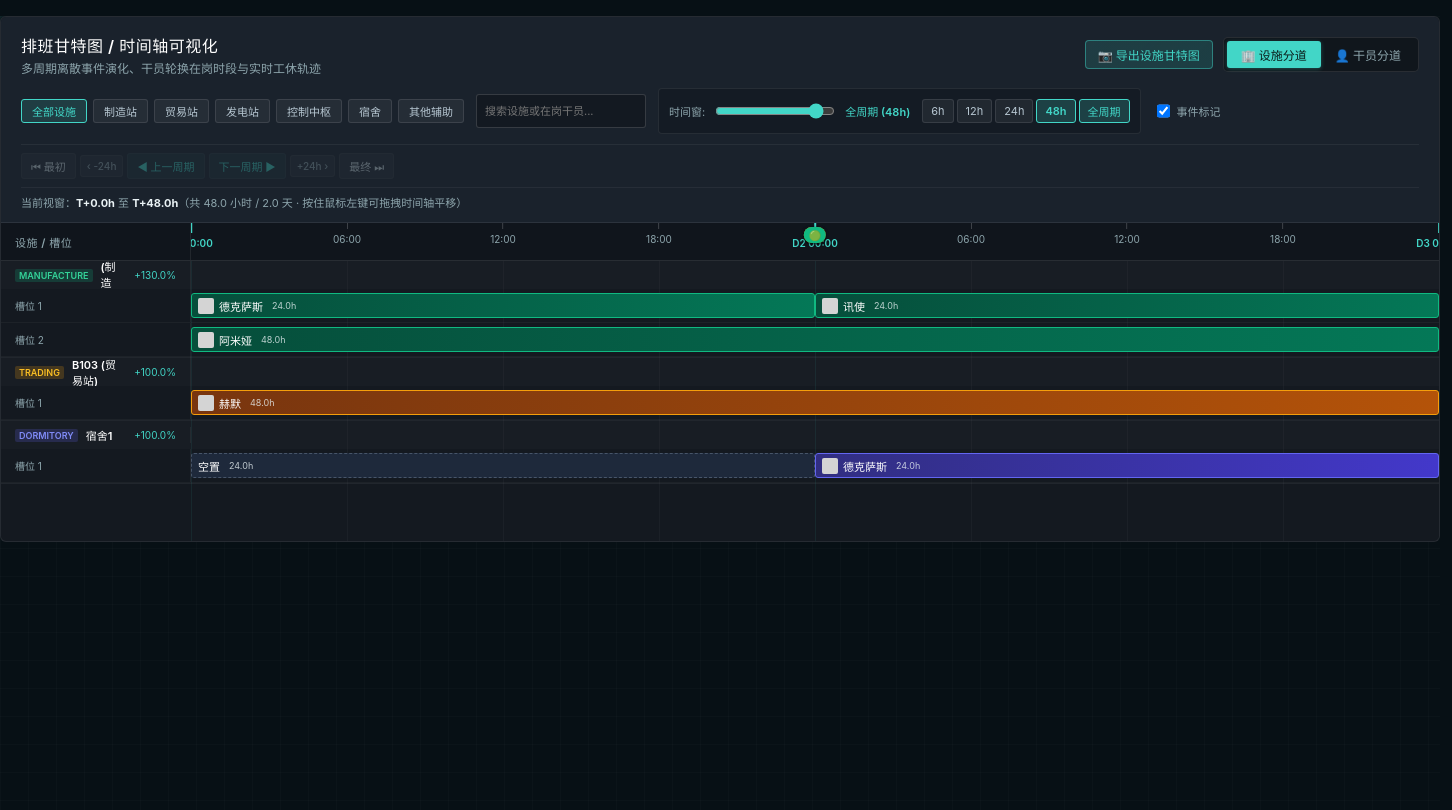
Test: ScheduleTimelineGantt.vue › controls window duration via range slider from 6h to total hours
The width and height of the screenshot is (1452, 810).
Slide window to 12h
Set the slider with test id "window-size-slider" to "12": point(738, 111) [715,94,835,128]
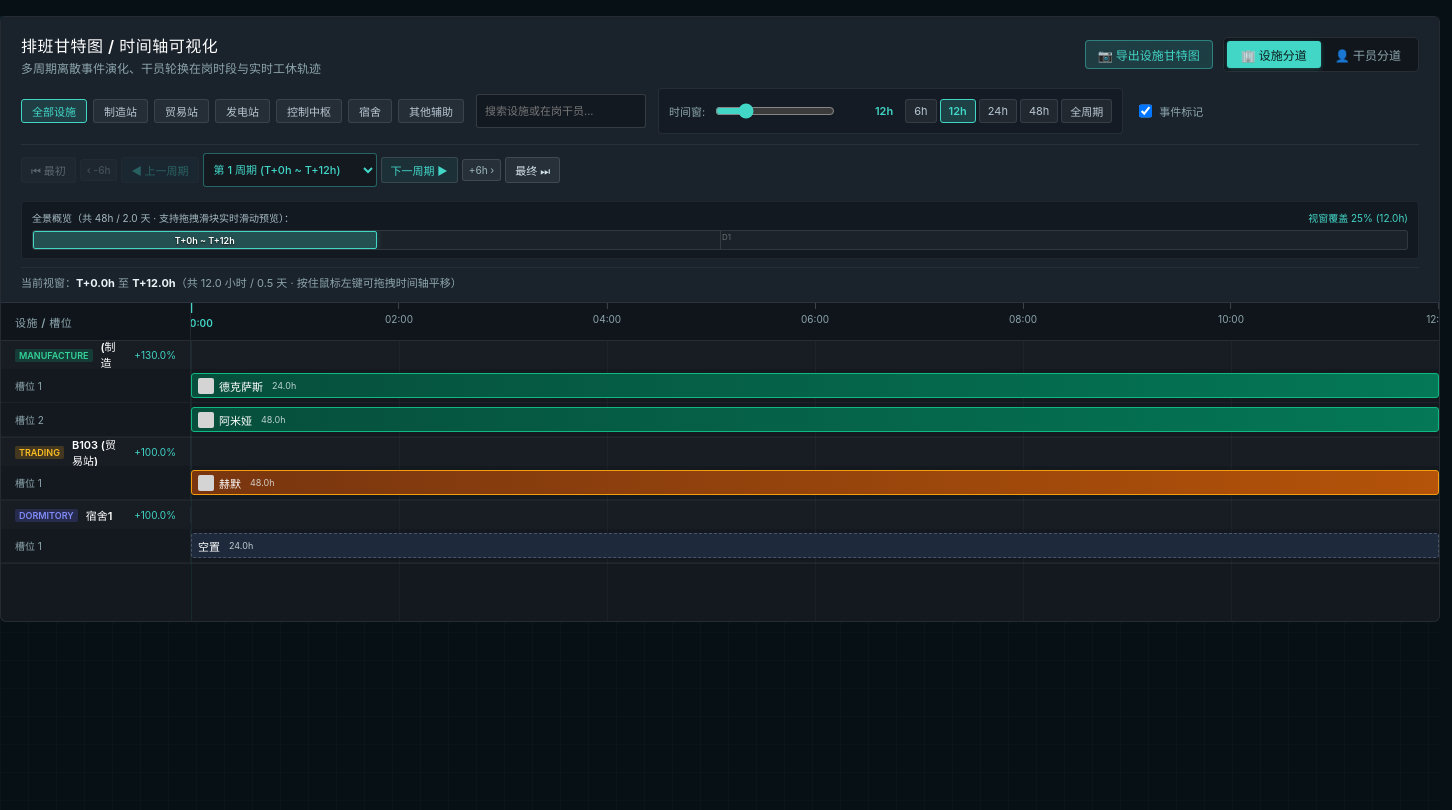
Now the element with class "time-window-info" shows "共 12.0 小时", box [176,276,462,290]
Slide window to minimum 6h
Set the slider with test id "window-size-slider" to "6": point(723, 111) [715,94,835,128]
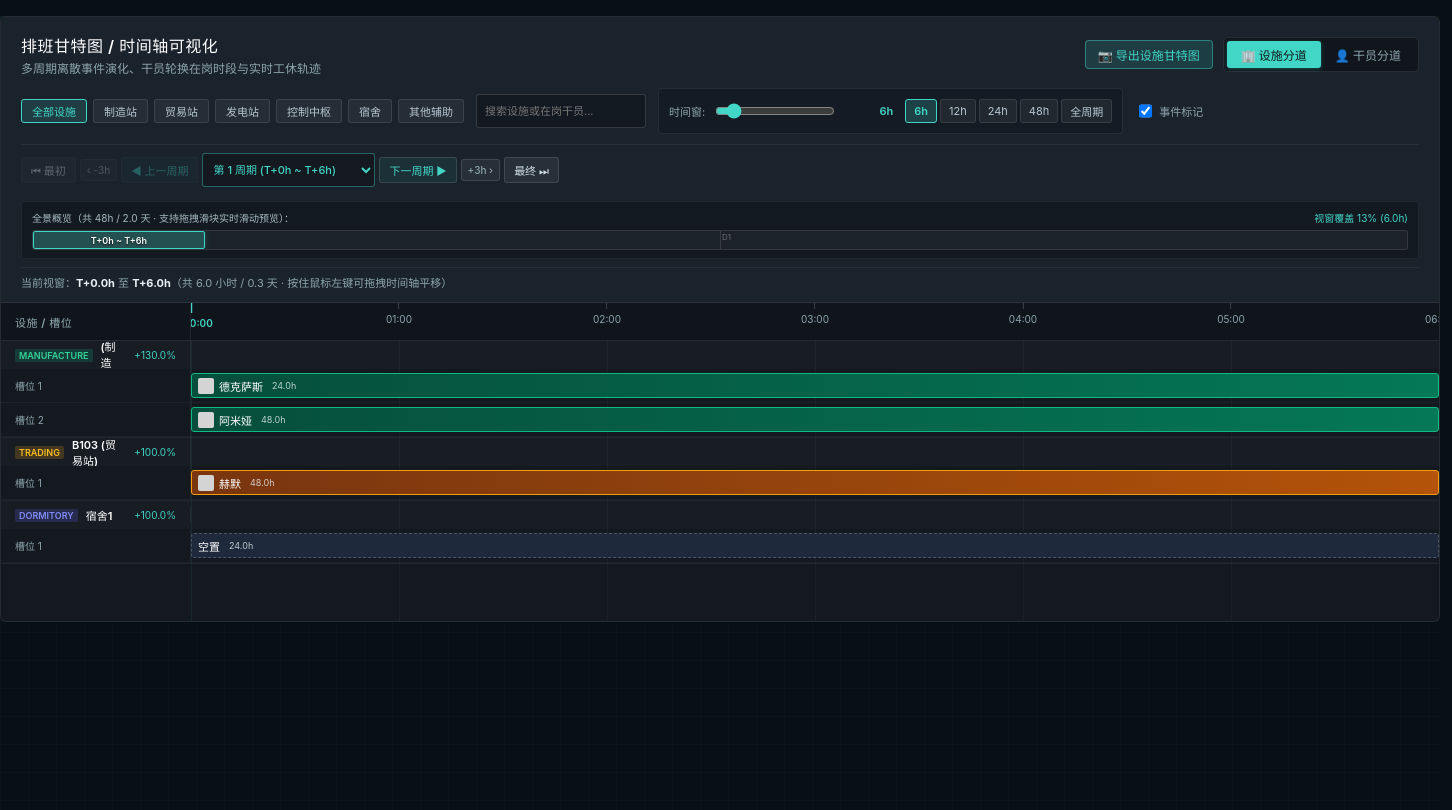
Now the element with class "time-window-info" shows "共 6.0 小时", box [171,276,452,290]
